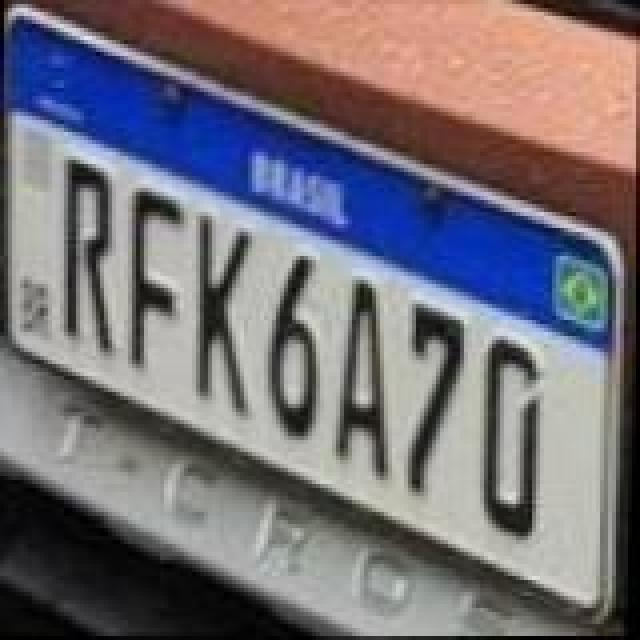6: (268, 254, 332, 446)
7: (408, 304, 468, 496)
A: (334, 282, 398, 482)
D: (480, 336, 544, 536)
F: (126, 186, 186, 370)
K: (194, 212, 262, 420)
R: (58, 160, 122, 360)
